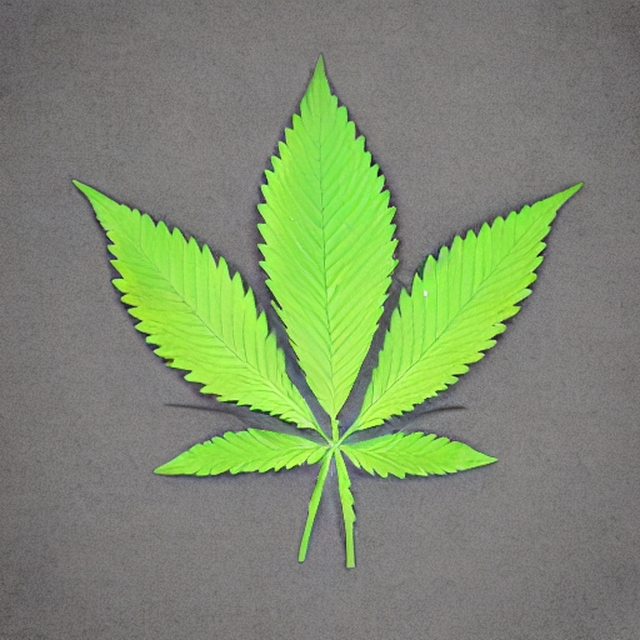Marijuana Leaf: (70, 51, 584, 568), (70, 177, 325, 435), (254, 51, 400, 420)
